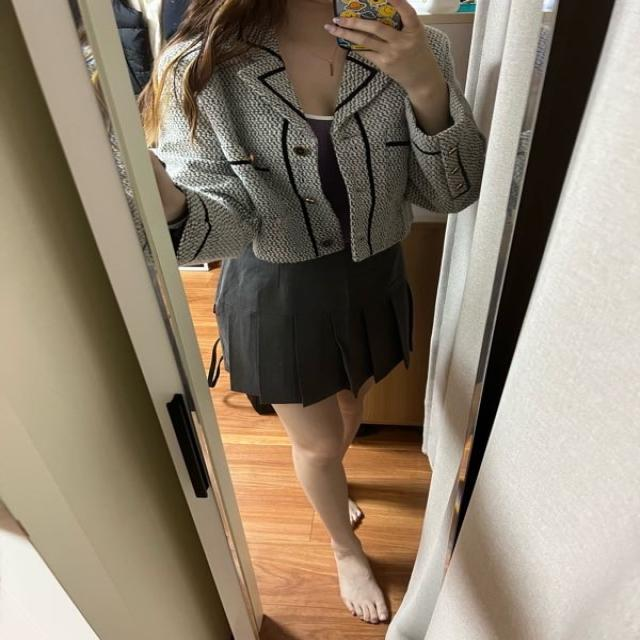blazer: (141, 17, 488, 264)
skirt: (215, 215, 416, 408)
